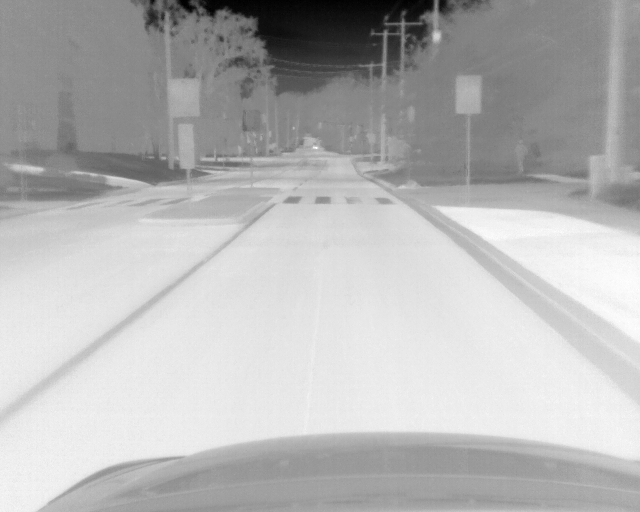people: (514, 140, 527, 174)
